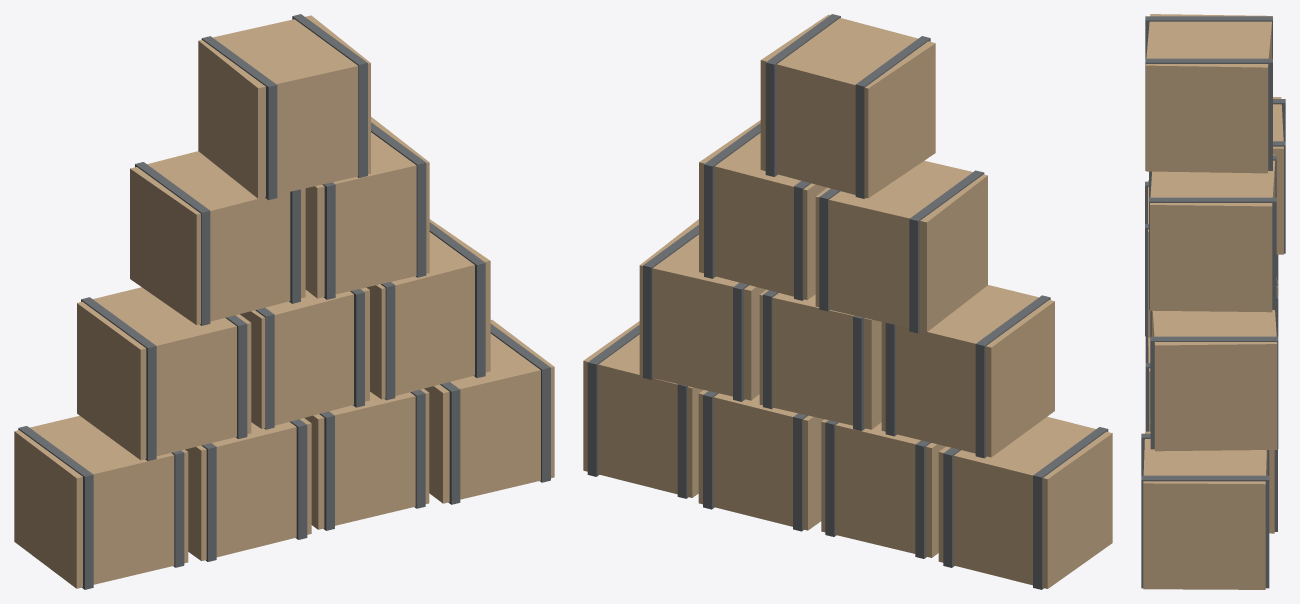
File: crate_stack_05.glb
3 renders of one model, left to right at view 1: azimuth 30°, elevation 25°; view 2: azimuth 150°, elevation 25°; view 3: azimuth 270°, elevation 25°, orthographic. The views are drawn at different scales.
Visible parts, largest first — view 1: crate9, crate4, crate0, crate7, crate3, crate8, crate6, crate1, crate5, crate2, brace9_-0.18, brace4_-0.18 (+18 smaller); view 2: crate9, crate0, crate7, crate4, crate6, crate8, crate2, crate3, crate5, crate1, brace9_0.18, brace7_-0.18 (+18 smaller); view 3: crate9, crate6, crate3, crate8, brace3_0.18, brace6_0.18, brace8_0.18, brace9_0.18, crate7, brace9_-0.18, crate2, brace4_0.18 (+4 smaller).
Boxes of the visible parts, x1,y1,x2,y2 form: crate9: [198, 15, 370, 198]; crate4: [77, 287, 251, 460]; crate0: [14, 415, 188, 588]; crate7: [130, 151, 305, 324]; crate3: [424, 319, 554, 503]; crate8: [305, 117, 429, 298]; crate6: [366, 219, 490, 399]; crate1: [185, 418, 311, 561]; crate5: [240, 287, 369, 428]; crate2: [304, 388, 429, 529]; brace9_-0.18: [201, 36, 277, 200]; brace4_-0.18: [81, 297, 156, 461]; crate9: [760, 14, 935, 198]; crate0: [938, 416, 1112, 588]; crate7: [815, 160, 987, 332]; crate4: [881, 285, 1054, 457]; crate6: [639, 219, 765, 400]; crate8: [699, 120, 826, 299]; crate2: [698, 390, 824, 530]; crate3: [583, 321, 703, 497]; crate5: [759, 289, 881, 429]; crate1: [821, 419, 945, 557]; brace9_0.18: [765, 14, 840, 176]; brace7_-0.18: [909, 170, 984, 333]; crate9: [1145, 14, 1272, 173]; crate6: [1152, 310, 1277, 451]; crate3: [1143, 431, 1267, 589]; crate8: [1150, 154, 1275, 312]; brace3_0.18: [1141, 475, 1269, 588]; brace6_0.18: [1150, 336, 1278, 449]; brace8_0.18: [1149, 197, 1276, 309]; brace9_0.18: [1145, 58, 1272, 170]; crate7: [1273, 97, 1283, 254]; brace9_-0.18: [1145, 16, 1272, 58]; crate2: [1269, 450, 1274, 533]; brace4_0.18: [1145, 224, 1148, 336].
Size of the model in its own units: 1.89 by 1.75 by 0.5183.
